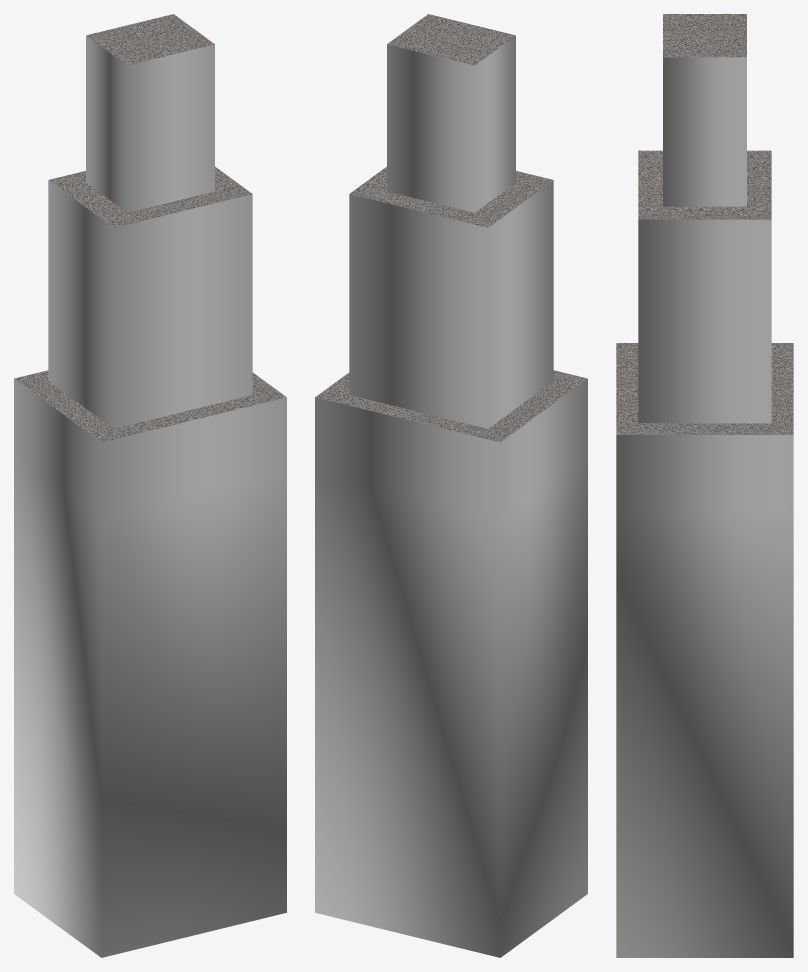
The model's file is PostApocCity1.fbx.
3 renders of one model, left to right at view 1: azimuth 30°, elevation 25°; view 2: azimuth 150°, elevation 25°; view 3: azimuth 270°, elevation 25°, orthographic.
Visible parts, largest first — view 1: CityGen.001; view 2: CityGen.001; view 3: CityGen.001.
Boxes of the visible parts, <box> form: CityGen.001: <box>14,14,286,957</box>; CityGen.001: <box>315,14,587,957</box>; CityGen.001: <box>616,14,793,957</box>.
Size of the model in its own units: 58.57 by 261 by 47.86.
